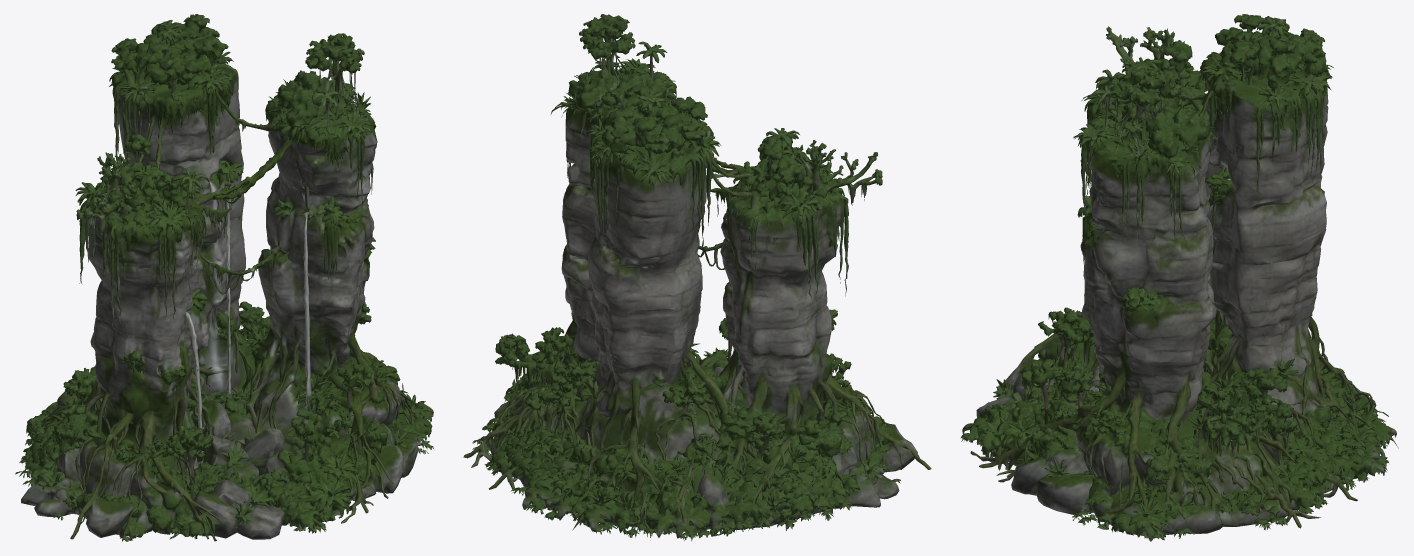
Rendered from av_hallelujah.glb.
3 renders of one model, left to right at view 1: azimuth 30°, elevation 25°; view 2: azimuth 150°, elevation 25°; view 3: azimuth 270°, elevation 25°, orthographic. The views are drawn at different scales.
Parts seen in each view (by area): view 1: av_hallelujah; view 2: av_hallelujah; view 3: av_hallelujah.
Boxes of the visible parts, x1,y1,x2,y2 form: av_hallelujah: (15,14,433,541); av_hallelujah: (463,14,931,541); av_hallelujah: (960,14,1398,541).
Bounding box in the file's own units: 1.9 × 1.88 × 1.75.
Materials: 1 (1 with a texture image).
